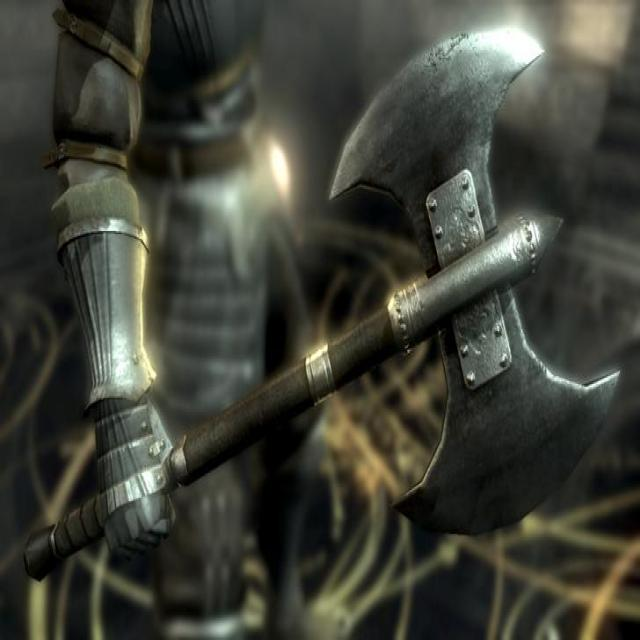Gun: (13, 70, 620, 557)
